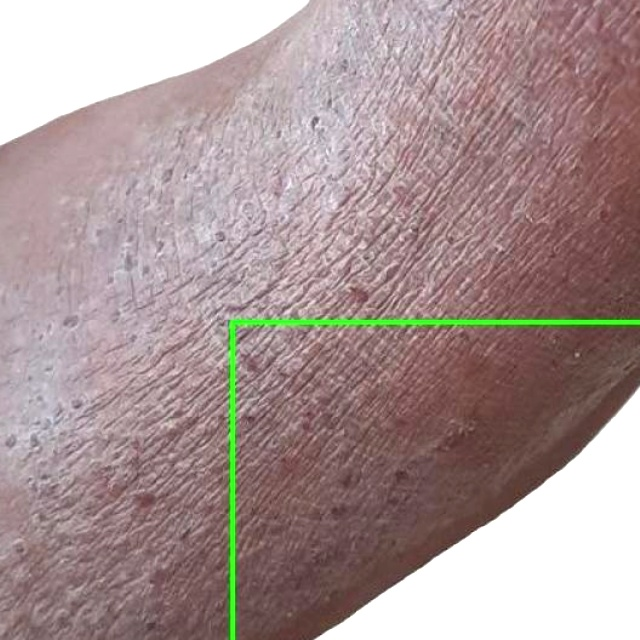Contact Dermatitis: (232, 322, 639, 639)
